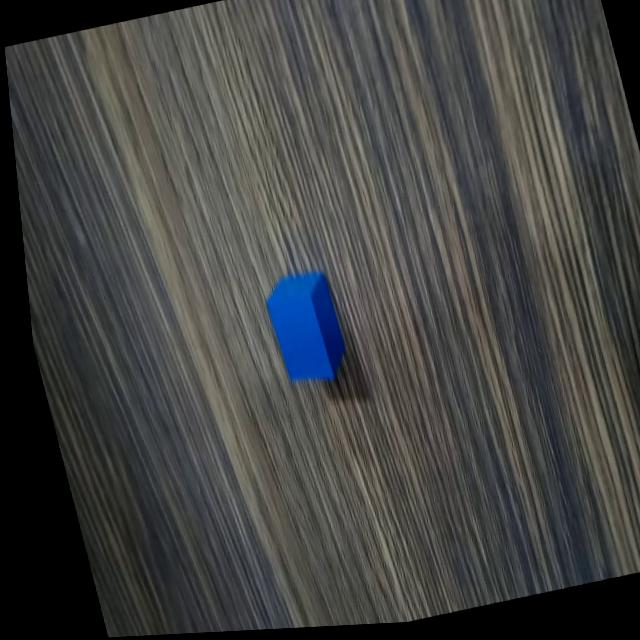cube: (248, 264, 348, 393)
